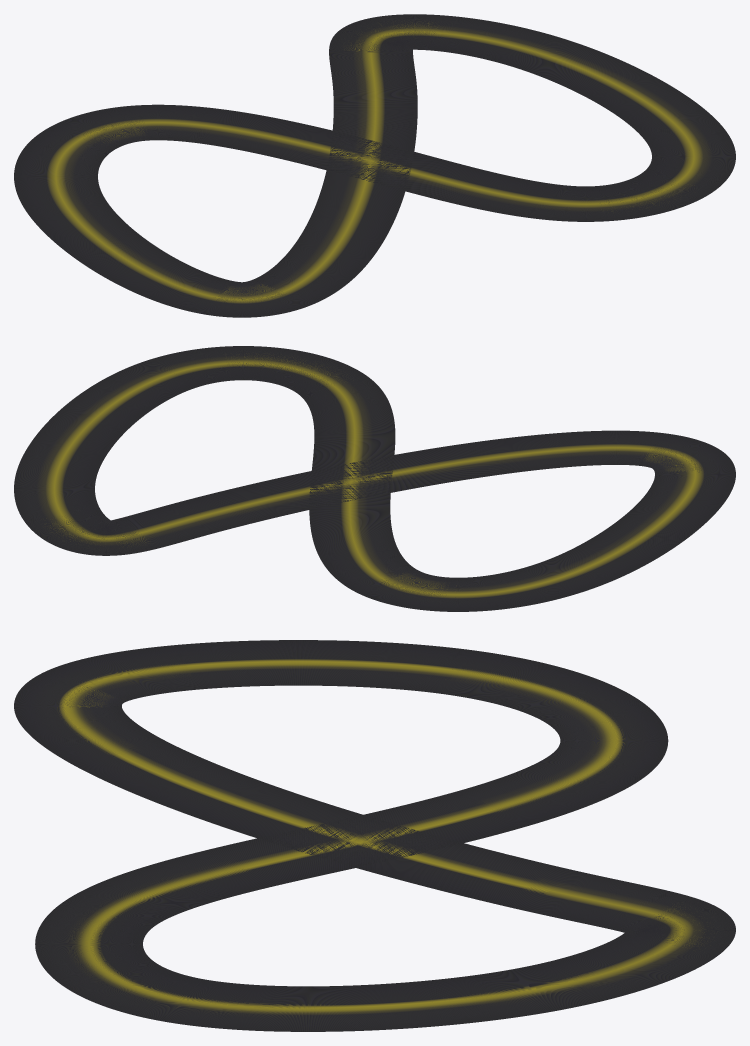
3 views of the same model, one above another, from view 1: azimuth 30°, elevation 25°; view 2: azimuth 150°, elevation 25°; view 3: azimuth 270°, elevation 25° (orthographic). The views are drawn at different scales.
Parts seen in each view (by area): view 1: road; view 2: road; view 3: road.
Part boxes in pixels (x1,y1,x2,y2): road: [14, 14, 735, 317]; road: [14, 346, 735, 611]; road: [14, 640, 735, 1031].
Size of the model in its own units: 1.55 by 0 by 1.21.
1 material, 1 textured.
